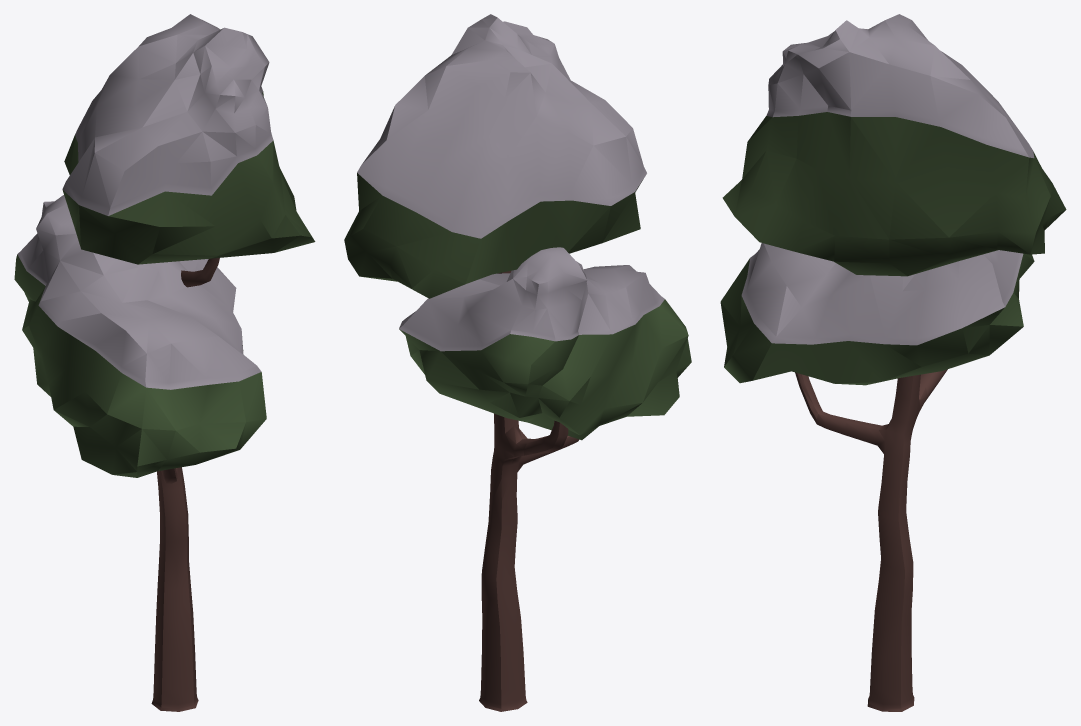
Rendered from tree_broadleaf_snow_1.glb.
3 renders of one model, left to right at view 1: azimuth 30°, elevation 25°; view 2: azimuth 150°, elevation 25°; view 3: azimuth 270°, elevation 25°, orthographic. The views are drawn at different scales.
Visible parts, largest first — view 1: tree_broadleaf_snow_1; view 2: tree_broadleaf_snow_1; view 3: tree_broadleaf_snow_1.
Boxes of the visible parts, x1,y1,x2,y2 form: tree_broadleaf_snow_1: (14,14,315,711); tree_broadleaf_snow_1: (344,14,691,711); tree_broadleaf_snow_1: (720,14,1066,711).
Size of the model in its own units: 3.3 by 9 by 4.05.
